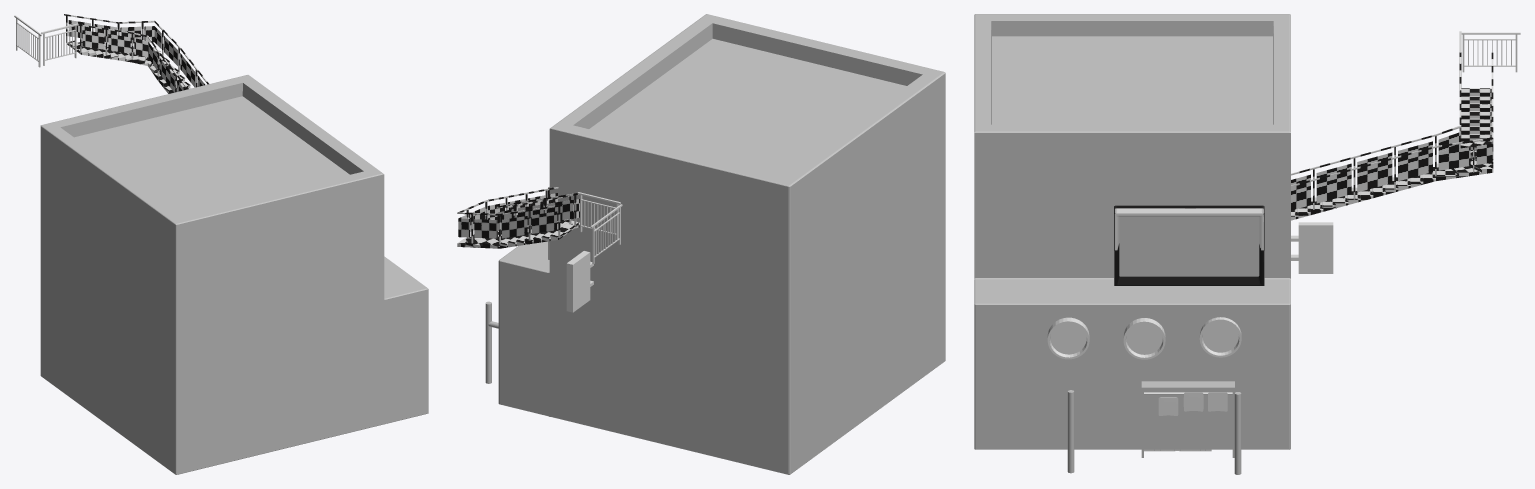
Rendered from cyberpunk street ramen house and stairs.fbx.
3 renders of one model, left to right at view 1: azimuth 30°, elevation 25°; view 2: azimuth 150°, elevation 25°; view 3: azimuth 270°, elevation 25°, orthographic. The views are drawn at different scales.
Parts seen in each view (by area): view 1: Cube.011, Stair, Fence.001, Fence.002; view 2: Cube.011, Stair, Cube.061, Fence.002, Fence.001, Cylinder.024; view 3: Cube.011, Stair, Cube.029, Cube.061, Cylinder.019, Cylinder.010, Cylinder.011, Door, Fence.002, Cylinder, Cylinder.024.
Part boxes in pixels (left/top/right/bottom): Cube.011: left=40, top=75, right=428, bottom=474; Stair: left=64, top=14, right=208, bottom=93; Fence.001: left=41, top=23, right=78, bottom=65; Fence.002: left=14, top=15, right=41, bottom=67; Cube.011: left=498, top=14, right=945, bottom=474; Stair: left=457, top=187, right=579, bottom=248; Cube.061: left=566, top=251, right=593, bottom=312; Fence.002: left=590, top=204, right=622, bottom=264; Fence.001: left=577, top=192, right=620, bottom=239; Cylinder.024: left=485, top=301, right=491, bottom=383; Cube.011: left=974, top=14, right=1290, bottom=449; Stair: left=1291, top=52, right=1493, bottom=220; Cube.029: left=1114, top=205, right=1264, bottom=285; Cube.061: left=1291, top=222, right=1333, bottom=273; Cylinder.019: left=1047, top=317, right=1089, bottom=359; Cylinder.010: left=1123, top=318, right=1165, bottom=359; Cylinder.011: left=1199, top=317, right=1241, bottom=357; Door: left=1141, top=381, right=1234, bottom=457; Fence.002: left=1461, top=32, right=1520, bottom=72; Cylinder: left=1067, top=390, right=1074, bottom=473; Cylinder.024: left=1234, top=392, right=1241, bottom=474.
Bounding box in the file's own units: 929 × 858 × 1316.
